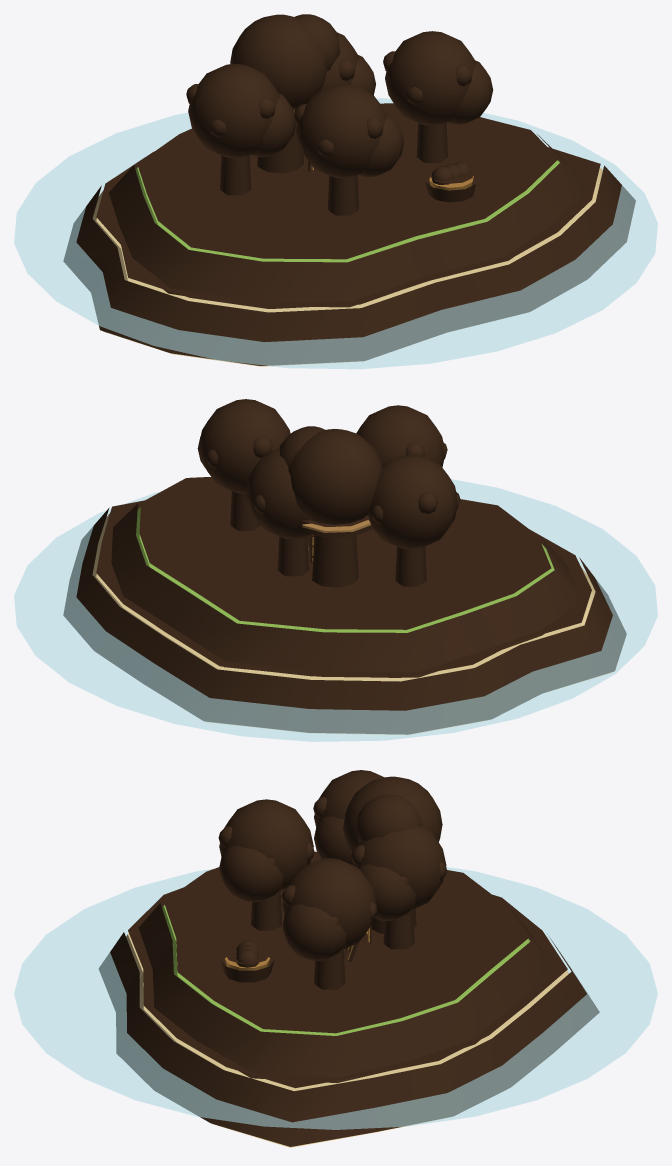
File: island-orchard.glb
3 views of the same model, one above another, from view 1: azimuth 30°, elevation 25°; view 2: azimuth 150°, elevation 25°; view 3: azimuth 270°, elevation 25° (orthographic).
Visible parts, largest first — view 1: outline (×17), Group; view 2: outline (×13), Group; view 3: outline (×16), Group.
Boxes of the visible parts, box(x1,y1,x2,y2) form: outline (×17): box(63, 14, 635, 365); Group: box(14, 98, 657, 369); outline (×13): box(63, 399, 626, 734); Group: box(14, 479, 657, 741); outline (×16): box(99, 770, 599, 1146); Group: box(14, 867, 657, 1147).
Bounding box in the file's own units: 5.1 × 1.96 × 5.1.
